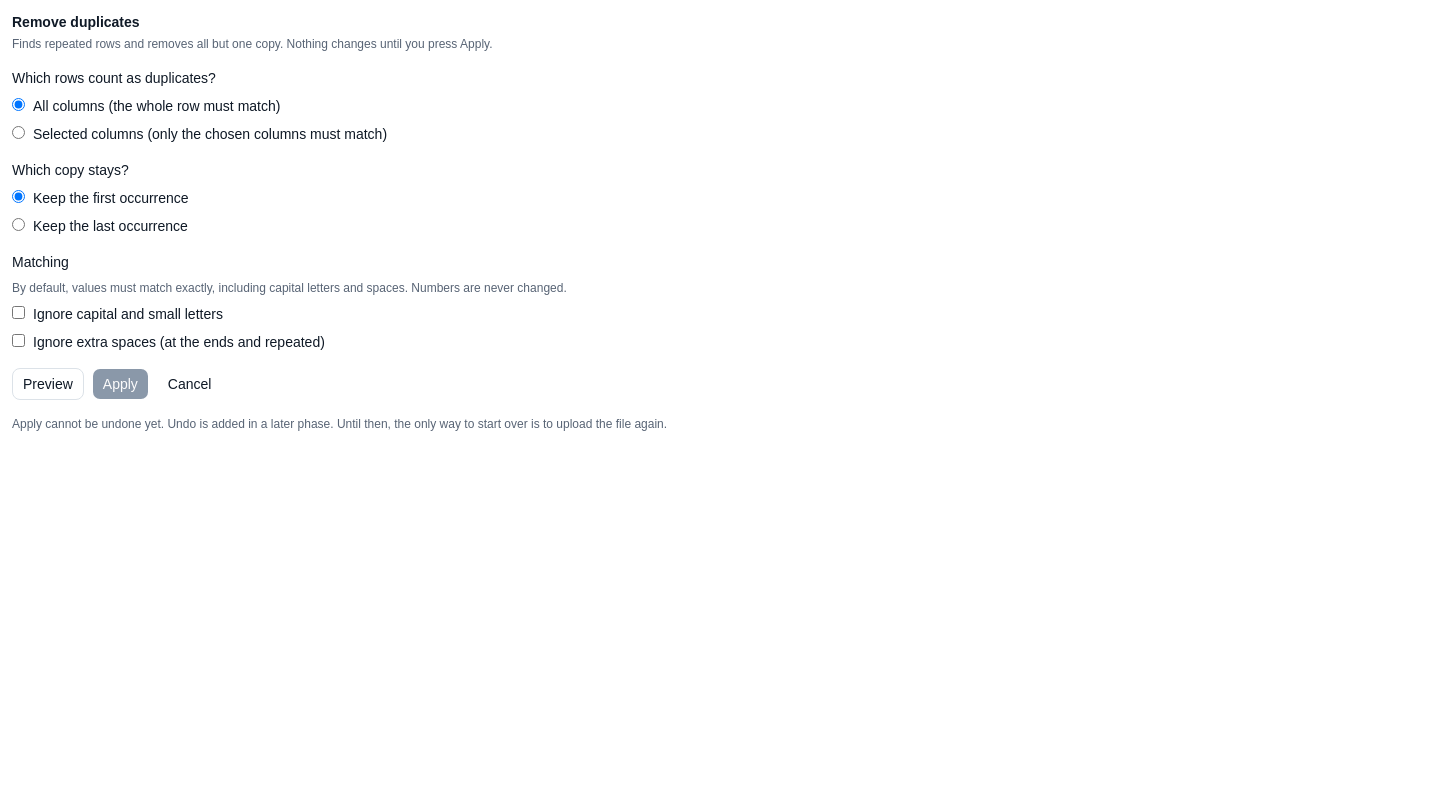
Test: DuplicatesPanel: apply › applies with the same settings and reports what happened
The image size is (1452, 810).
Click the button "Preview".
click(48, 384)  # box [12,368,84,400]
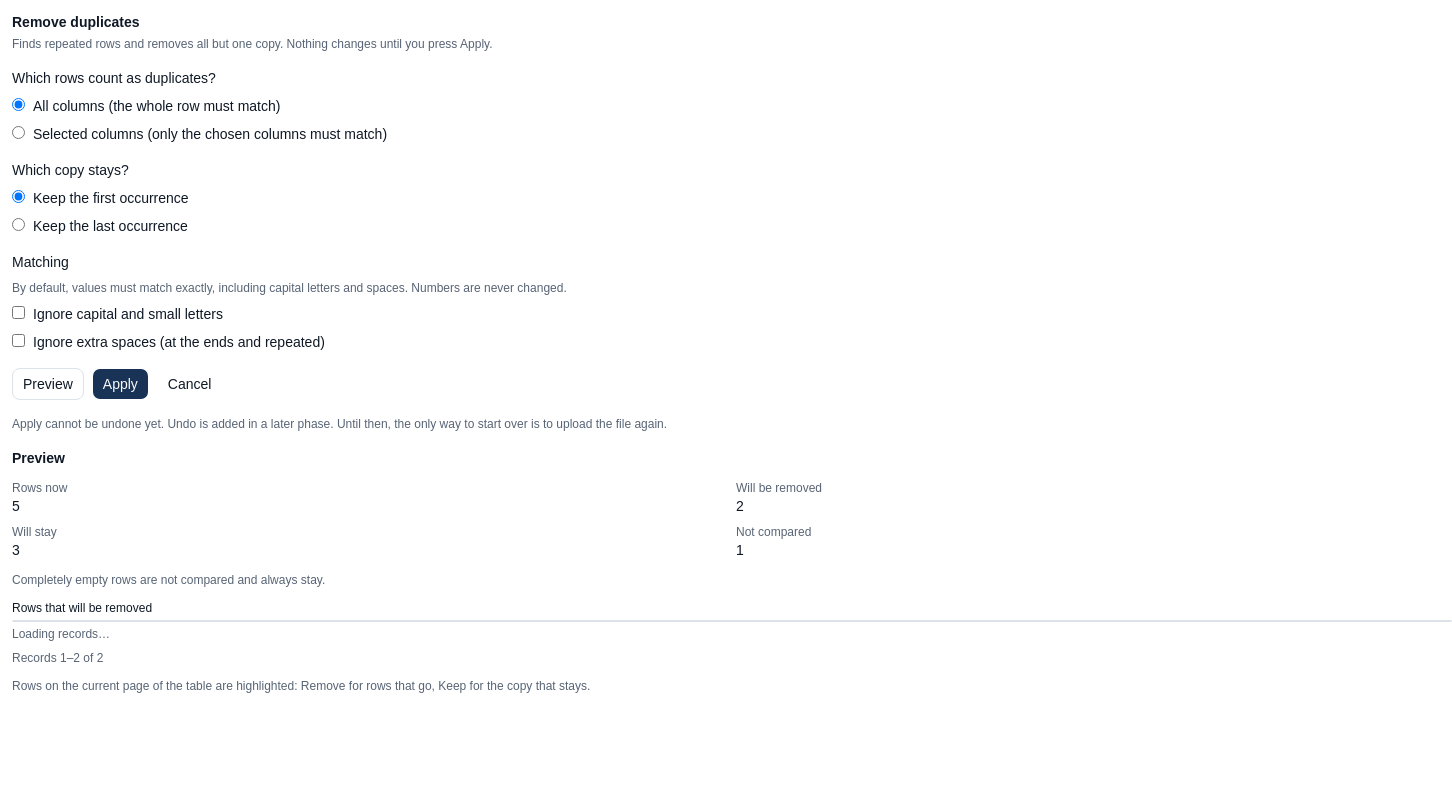
Result: the element "Preview" is shown at [12,448,1451,694]
Click the button "Apply".
click(120, 384)  # box [92,368,149,400]
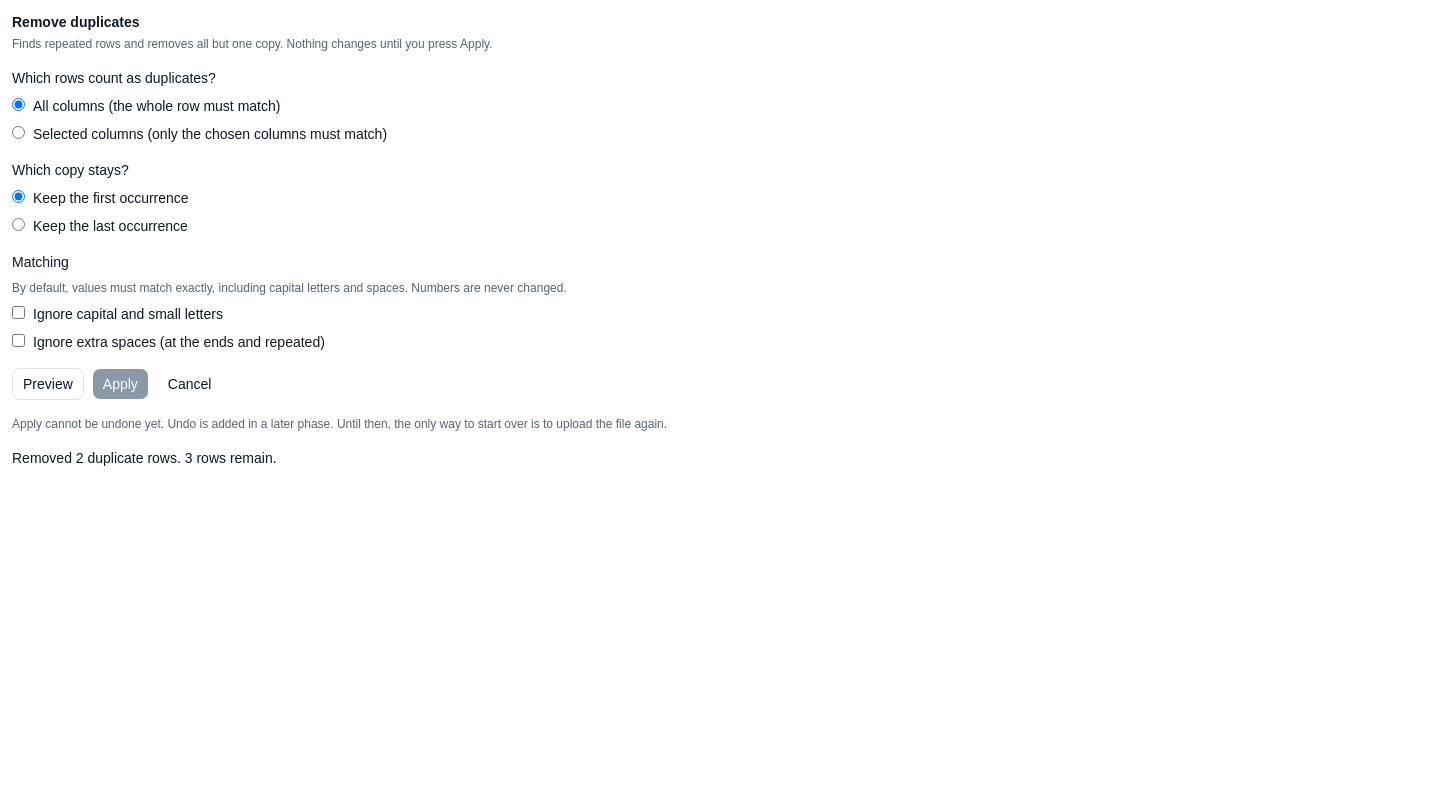
Result: the text "Removed 2 duplicate rows. 3 rows remain." is shown at [12,450,277,466]
Result: the button "Apply" is disabled at [92,368,149,400]
